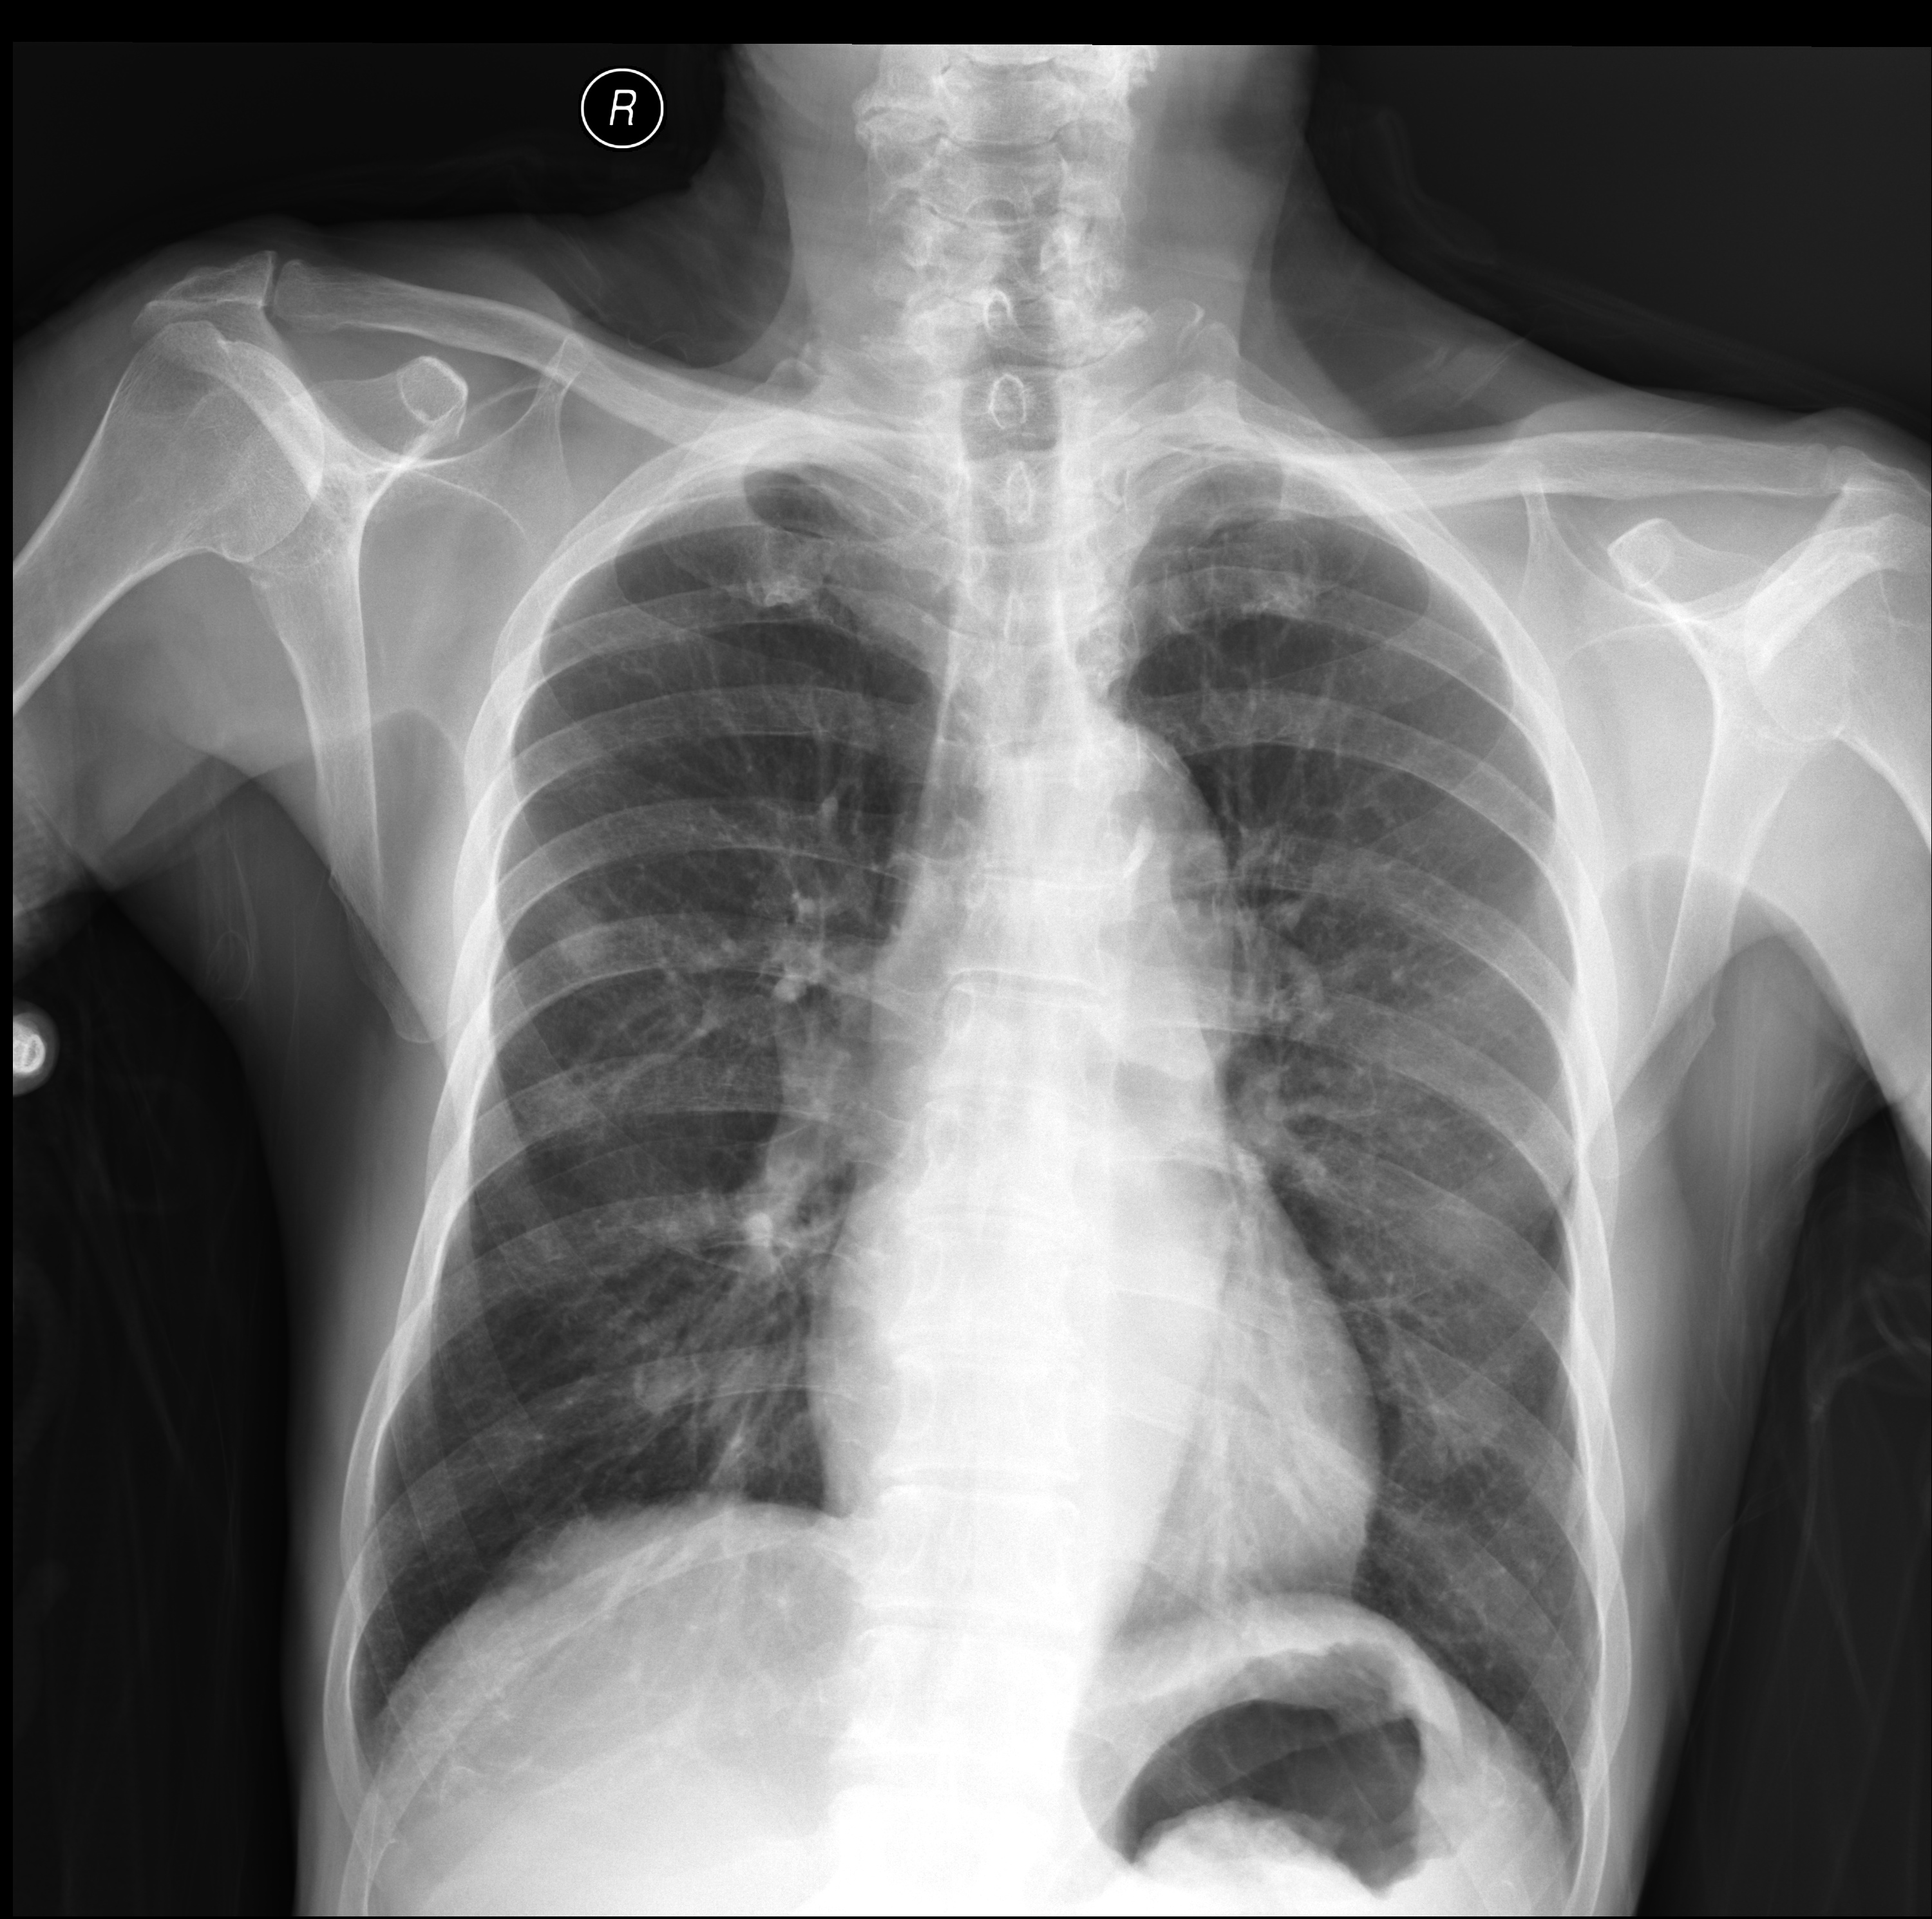nodule: (519, 873, 645, 1007)
